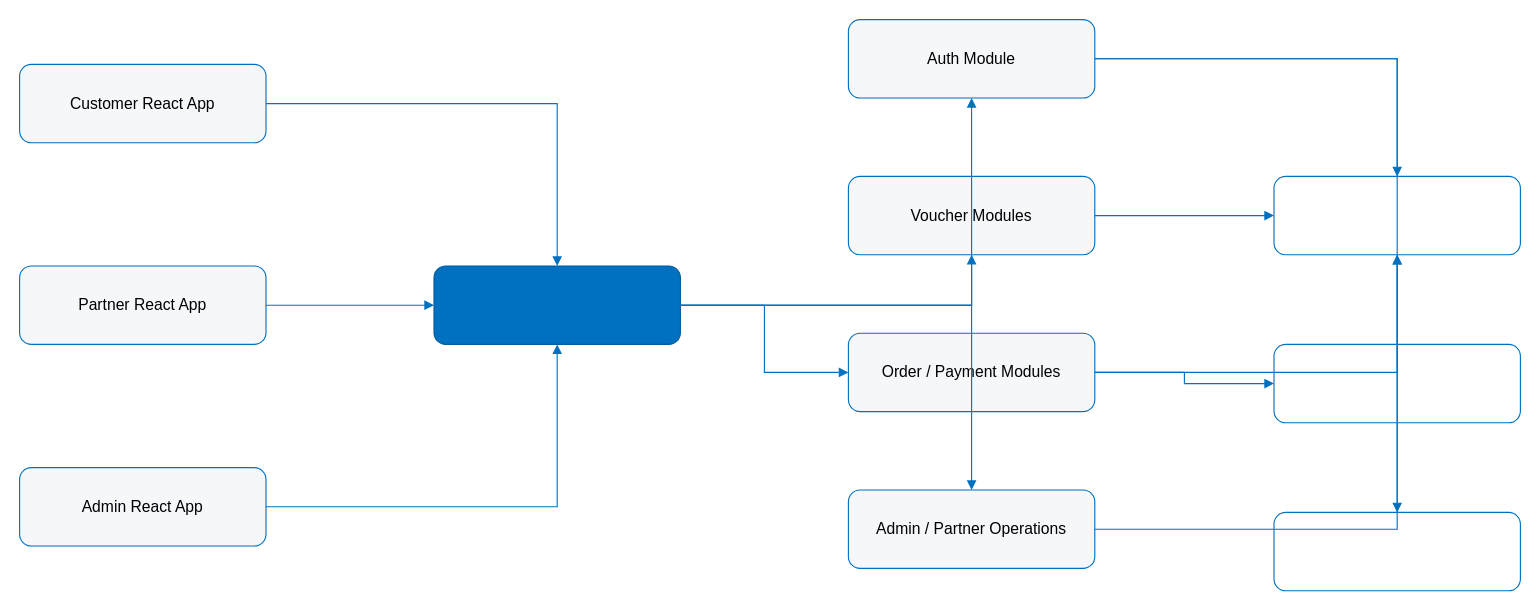
Image size: 1540x610. Some labels were removed from this diagram. The shapes that lost their labels are listed below. From the top down, each one's box as (x1, y1, x2, y2) in pixels, then its label:
(1273, 175, 1520, 255): PostgreSQL
(433, 265, 680, 344): Express API Gateway
(1273, 343, 1520, 423): MoMo / PayPal / VietQR
(1273, 511, 1520, 591): Email / SMS Utils
